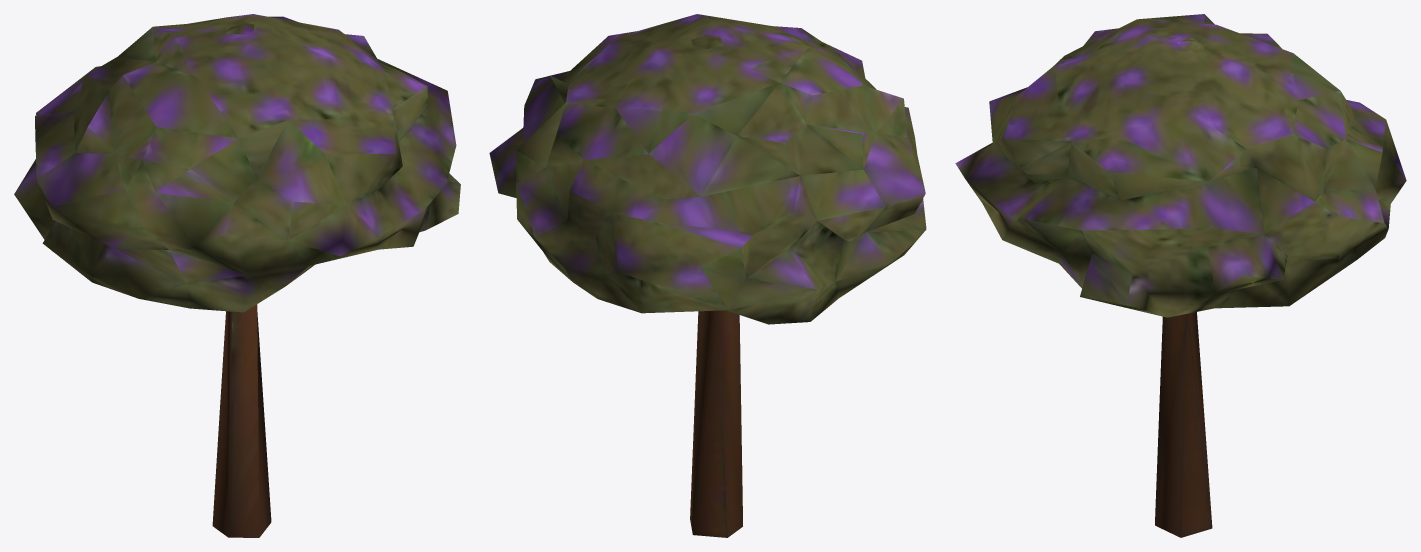
File: tree_round_b_far.glb
3 renders of one model, left to right at view 1: azimuth 30°, elevation 25°; view 2: azimuth 150°, elevation 25°; view 3: azimuth 270°, elevation 25°, orthographic. The views are drawn at different scales.
Parts seen in each view (by area): view 1: body; view 2: body; view 3: body.
Boxes of the visible parts, x1,y1,x2,y2 form: body: [14, 14, 460, 537]; body: [489, 14, 926, 537]; body: [955, 14, 1406, 537].
Size of the model in its own units: 3.69 by 4.39 by 3.69.
Materials: 2 (2 with a texture image).
